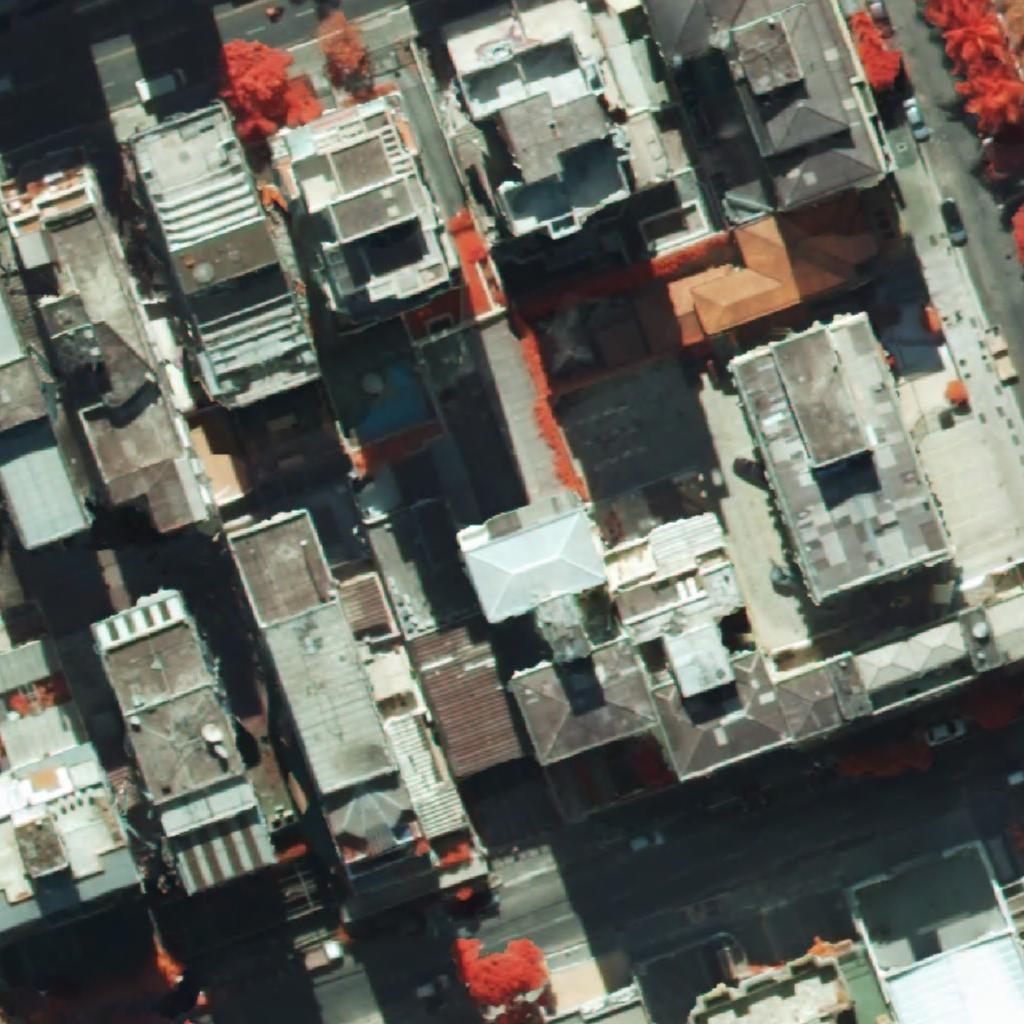pool: (354, 358, 431, 444)
